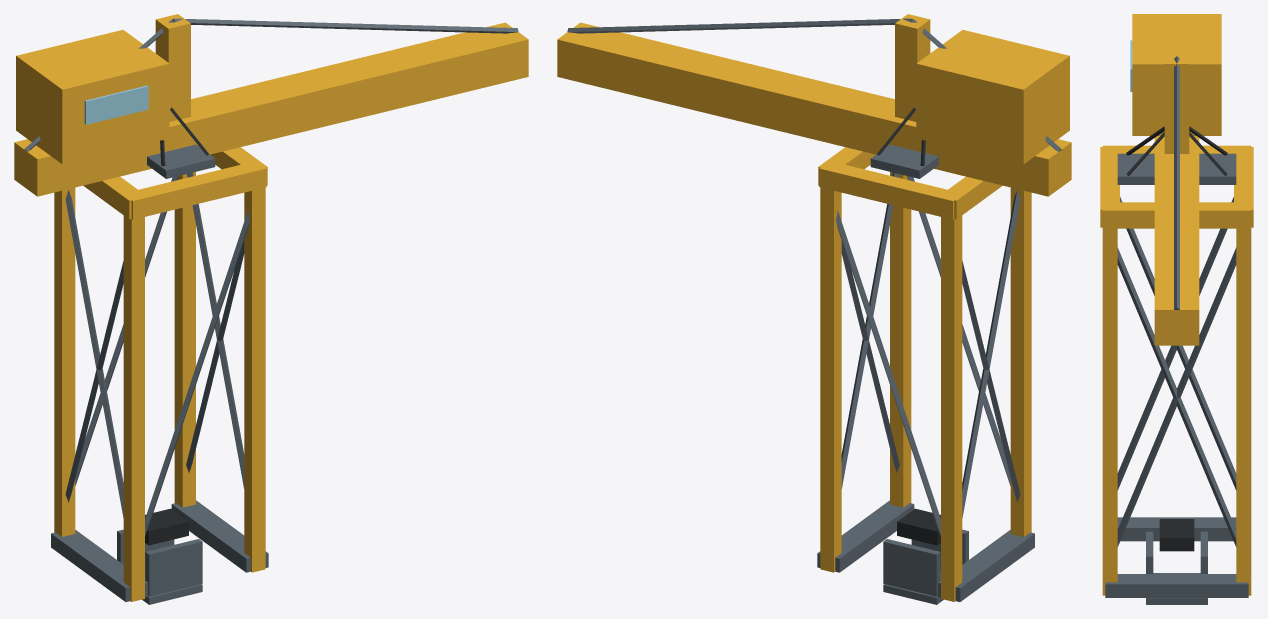
Rendered from crane.glb.
The picture shows the model from 3 angles, left to right: view 1: azimuth 30°, elevation 25°; view 2: azimuth 150°, elevation 25°; view 3: azimuth 270°, elevation 25°; orthographic projection. The views are drawn at different scales.
Visible parts, largest first — view 1: Body, Trolley, Hook; view 2: Body, Trolley, Hook; view 3: Body, Hook, Trolley.
Part boxes in pixels (<box>): Body: <box>14,14,528,601</box>; Trolley: <box>117,508,202,604</box>; Hook: <box>147,107,215,178</box>; Body: <box>557,14,1071,601</box>; Trolley: <box>883,508,968,604</box>; Hook: <box>870,107,938,178</box>; Body: <box>1100,14,1253,597</box>; Hook: <box>1117,126,1236,184</box>; Trolley: <box>1146,519,1207,604</box>.
Bounding box in the file's own units: 11.05 × 12.08 × 3.1.
